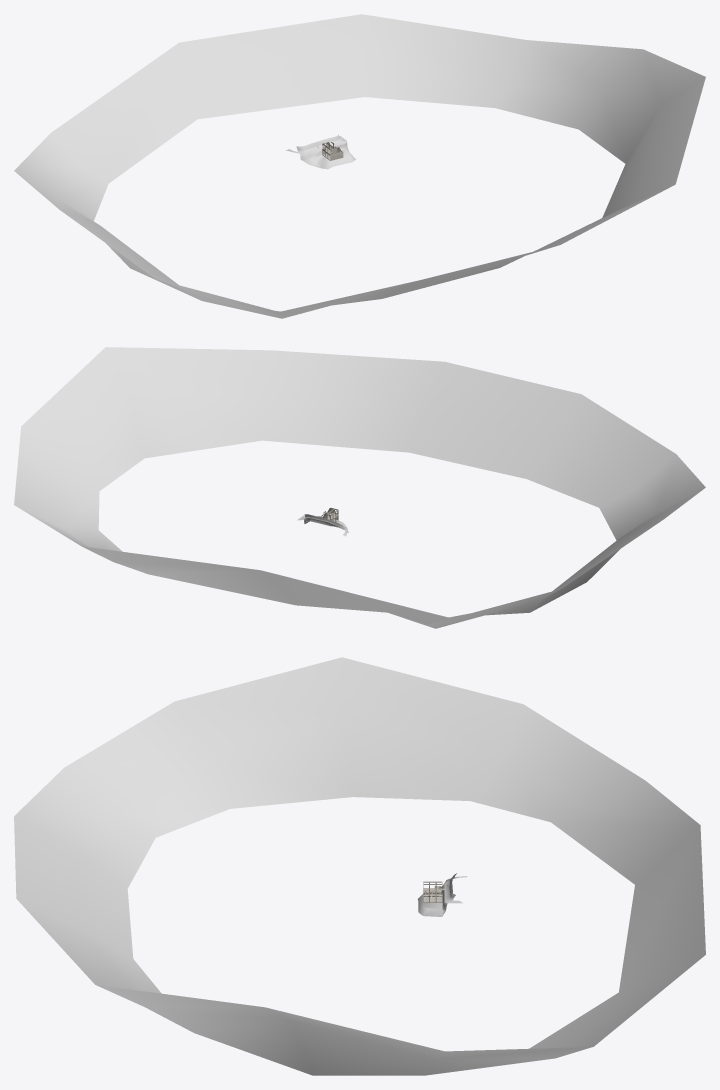
The model's file is vRRubbleBuilding.fbx.
3 views of the same model, one above another, from view 1: azimuth 30°, elevation 25°; view 2: azimuth 150°, elevation 25°; view 3: azimuth 270°, elevation 25° (orthographic). The views are drawn at different scales.
Parts seen in each view (by area): view 1: Plane, Cube.001; view 2: Plane; view 3: Plane, Cube.001.
Boxes of the visible parts, bbox=[...] form: Plane: bbox=[14, 14, 705, 318]; Cube.001: bbox=[286, 135, 355, 169]; Plane: bbox=[14, 347, 705, 628]; Plane: bbox=[14, 657, 705, 1075]; Cube.001: bbox=[417, 873, 467, 916].
Size of the model in its own units: 273 by 36.11 by 219.
Materials: 1 (1 with a texture image).
